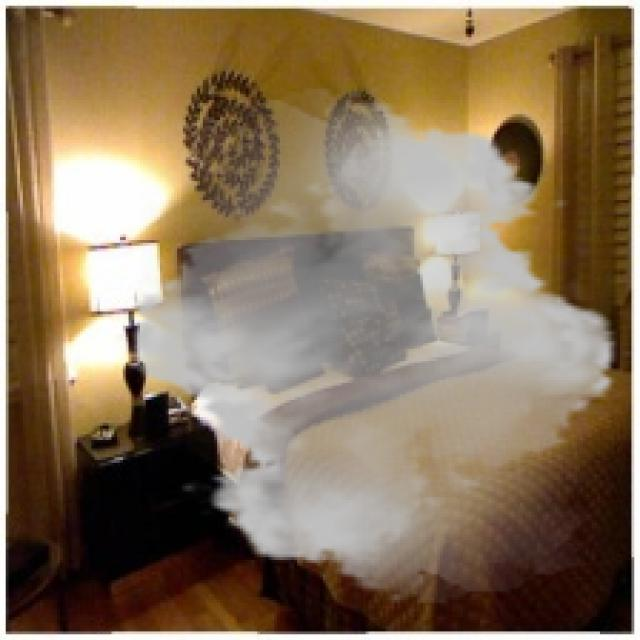smoke: (112, 88, 637, 603)
